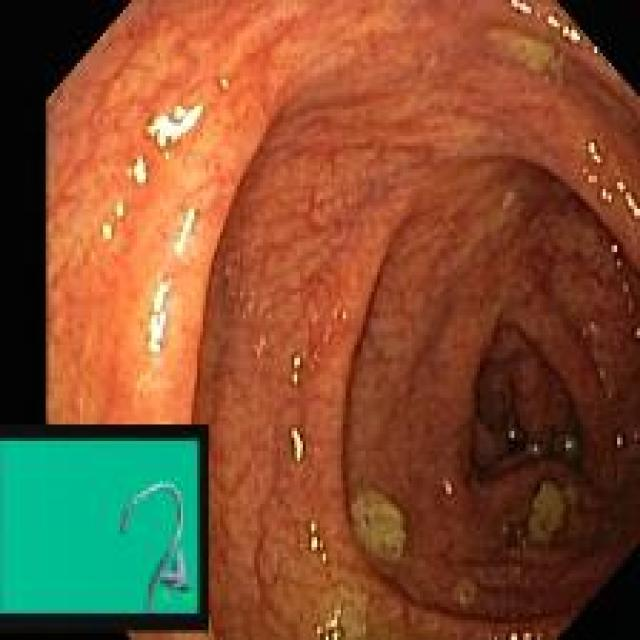ulcerative-colitis-grade-0-1: (8, 22, 633, 631), (21, 461, 291, 462)
